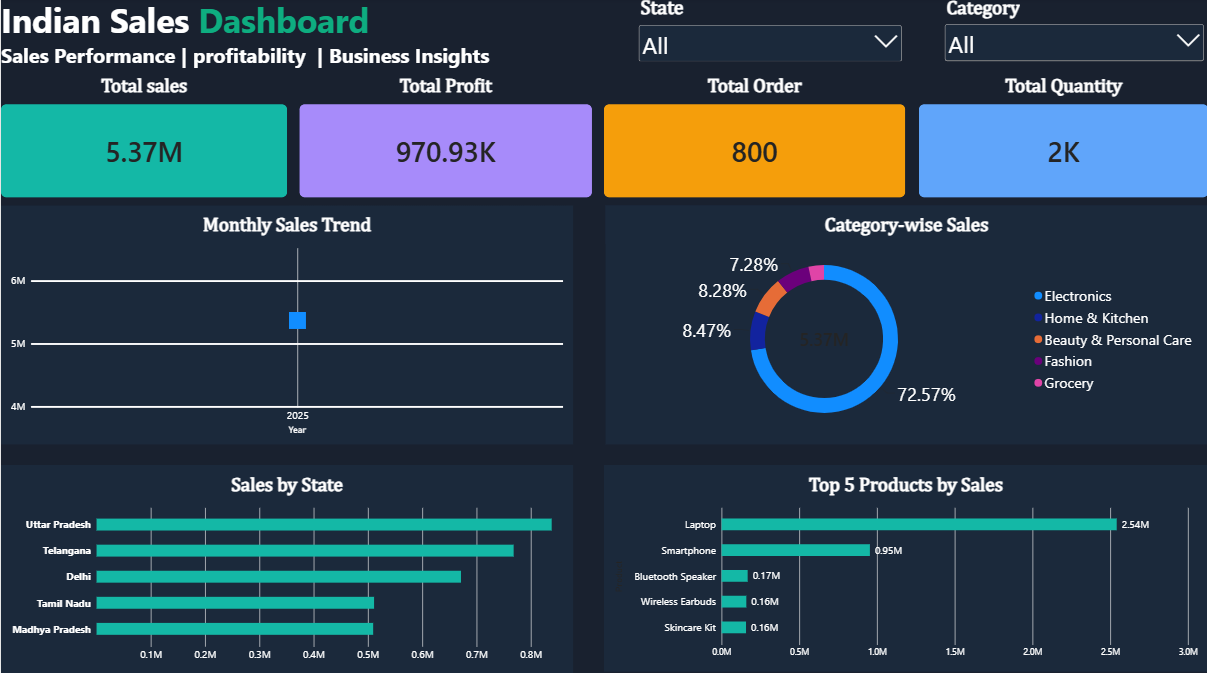

This screenshot's page, from the dashboard's own definition file:
{"tool":"powerbi","page":{"name":"Page 1","canvas":[1920,1080],"ordinal":0},"visuals":[{"type":"textbox","box":[0,0,796.5,155.9],"z":0},{"type":"textbox","box":[0,201,910,150],"z":1000},{"type":"cardVisual","title":"Total sales","fields":{"Data":["Sum(indian_sales_raw_dataset (1).Sales_INR)"]},"box":[0,124.1,455.7,195.6],"z":2000},{"type":"cardVisual","title":"Total Profit","fields":{"Data":["Sum(indian_sales_raw_dataset (1).Profit_INR)"]},"box":[474.8,124.1,465.3,195.6],"z":3000},{"type":"cardVisual","title":"Total Order","fields":{"Data":["Count(indian_sales_raw_dataset (1).Order_ID)"]},"box":[959.1,124.1,479.6,195.6],"z":4000},{"type":"cardVisual","title":"Total Quantity","fields":{"Data":["Sum(indian_sales_raw_dataset (1).Quantity)"]},"box":[1460.2,124.1,460.5,195.6],"z":5000},{"type":"donutChart","title":"Category-wise Sales","fields":{"Category":["indian_sales_raw_dataset (1).Category"],"Y":["Sum(indian_sales_raw_dataset (1).Sales_INR)"]},"box":[961,331.7,958.1,379.8],"z":6000},{"type":"clusteredBarChart","title":"Sales by State","fields":{"Category":["indian_sales_raw_dataset (1).State"],"Y":["Sum(indian_sales_raw_dataset (1).Sales_INR)"]},"box":[0,745.5,909.9,334.5],"z":7000},{"type":"clusteredBarChart","title":"Top 5 Products by Sales","fields":{"Category":["indian_sales_raw_dataset (1).Product"],"Y":["Sum(indian_sales_raw_dataset (1).Sales_INR)"]},"box":[958.1,745.5,961,328.8],"z":8000},{"type":"slicer","fields":{"Values":["indian_sales_raw_dataset (1).State"]},"box":[1009.1,0,428,102],"z":9000},{"type":"slicer","fields":{"Values":["indian_sales_raw_dataset (1).Category"]},"box":[1496.7,0,422.4,102],"z":10000},{"type":"areaChart","title":"Monthly Sales Trend","fields":{"Category":["indian_sales_raw_dataset (1).Order_Date.Variation.Date Hierarchy.Year","indian_sales_raw_dataset (1).Order_Date.Variation.Date Hierarchy.Quarter"],"Y":["Sum(indian_sales_raw_dataset (1).Sales_INR)"]},"box":[0,331.7,909.9,379.8],"z":11000}]}

Visuals, with their boxes in screenshot pixels (x1, y1, x2, y2), scaled from the page's 1920x1080 canvas onto the 1207x673 screenshot:
textbox: 0, 0, 501, 97
textbox: 0, 125, 572, 219
"Total sales" cardVisual: 0, 77, 286, 199
"Total Profit" cardVisual: 298, 77, 591, 199
"Total Order" cardVisual: 603, 77, 904, 199
"Total Quantity" cardVisual: 918, 77, 1206, 199
"Category-wise Sales" donutChart: 604, 207, 1206, 443
"Sales by State" clusteredBarChart: 0, 465, 572, 672
"Top 5 Products by Sales" clusteredBarChart: 602, 465, 1206, 669
slicer - indian_sales_raw_dataset (1).State: 634, 0, 903, 64
slicer - indian_sales_raw_dataset (1).Category: 941, 0, 1206, 64
"Monthly Sales Trend" areaChart: 0, 207, 572, 443
